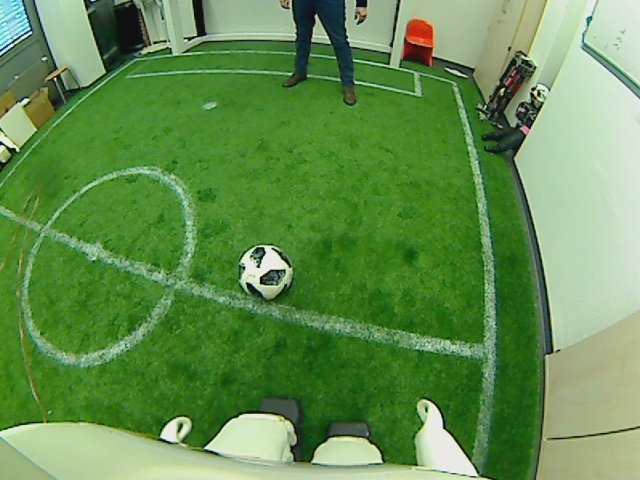ball: (236, 243, 295, 300)
